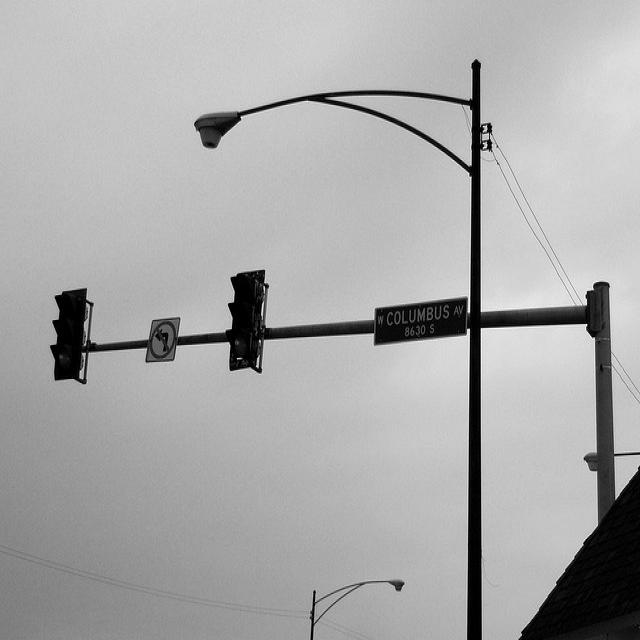pole: (459, 54, 492, 638), (584, 277, 621, 514)
